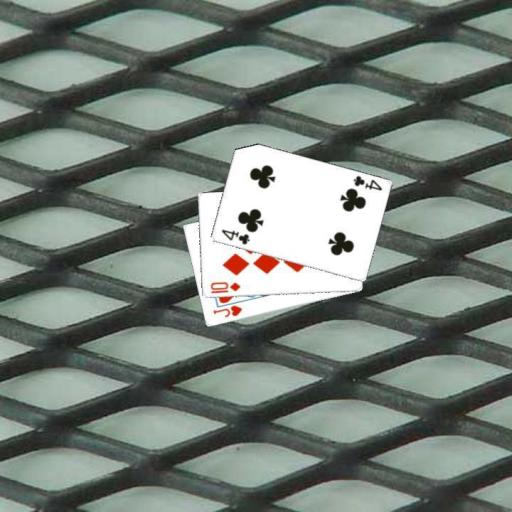card-corner: (218, 226, 251, 246), (350, 173, 383, 192), (210, 302, 243, 320), (207, 279, 242, 295)
